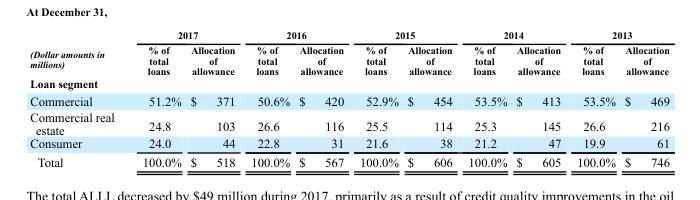table: (29, 29, 668, 169)
table column: (29, 29, 127, 169), (127, 29, 185, 169), (293, 29, 351, 169), (510, 29, 568, 169), (185, 29, 242, 169), (402, 29, 459, 169), (242, 29, 293, 169), (351, 29, 402, 169), (459, 29, 510, 169), (568, 29, 619, 169), (619, 29, 668, 169)
table column header: (29, 29, 668, 76)
table projected row header: (29, 76, 668, 91)
table row: (29, 42, 668, 76), (29, 108, 668, 136), (29, 91, 668, 108), (29, 152, 668, 169), (29, 136, 668, 152), (29, 76, 668, 91), (29, 29, 668, 42)
table spanning cell: (29, 29, 127, 76), (127, 29, 242, 42), (242, 29, 351, 42), (459, 29, 568, 42), (351, 29, 459, 42), (568, 29, 668, 42)
